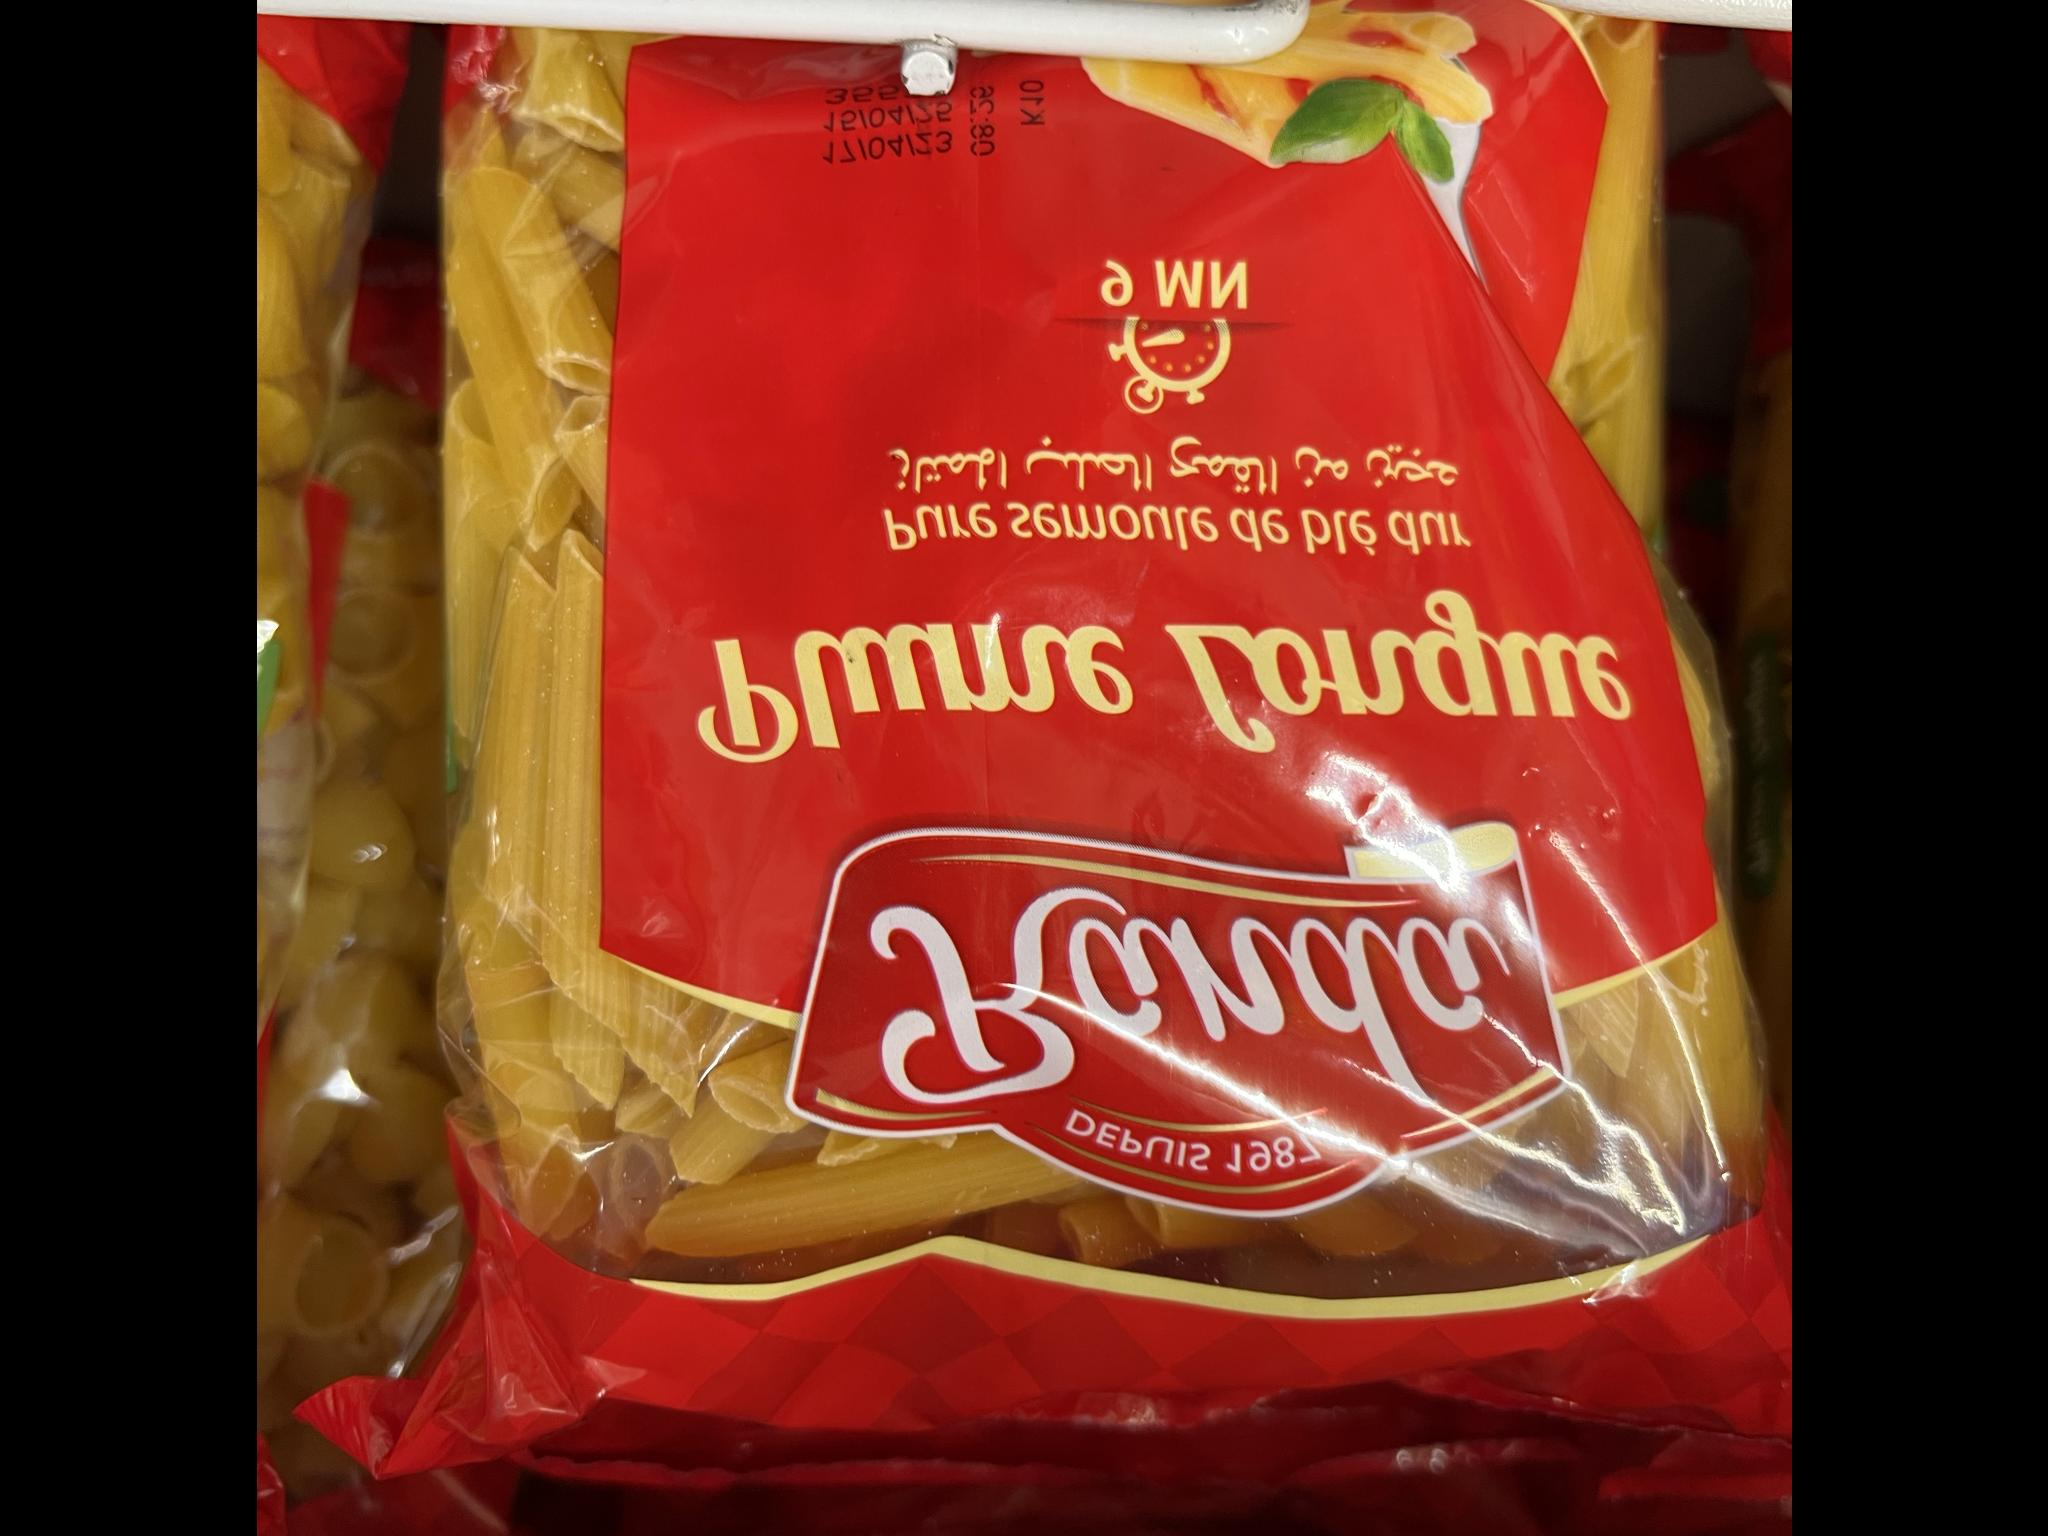plume: (406, 0, 1774, 1441)
